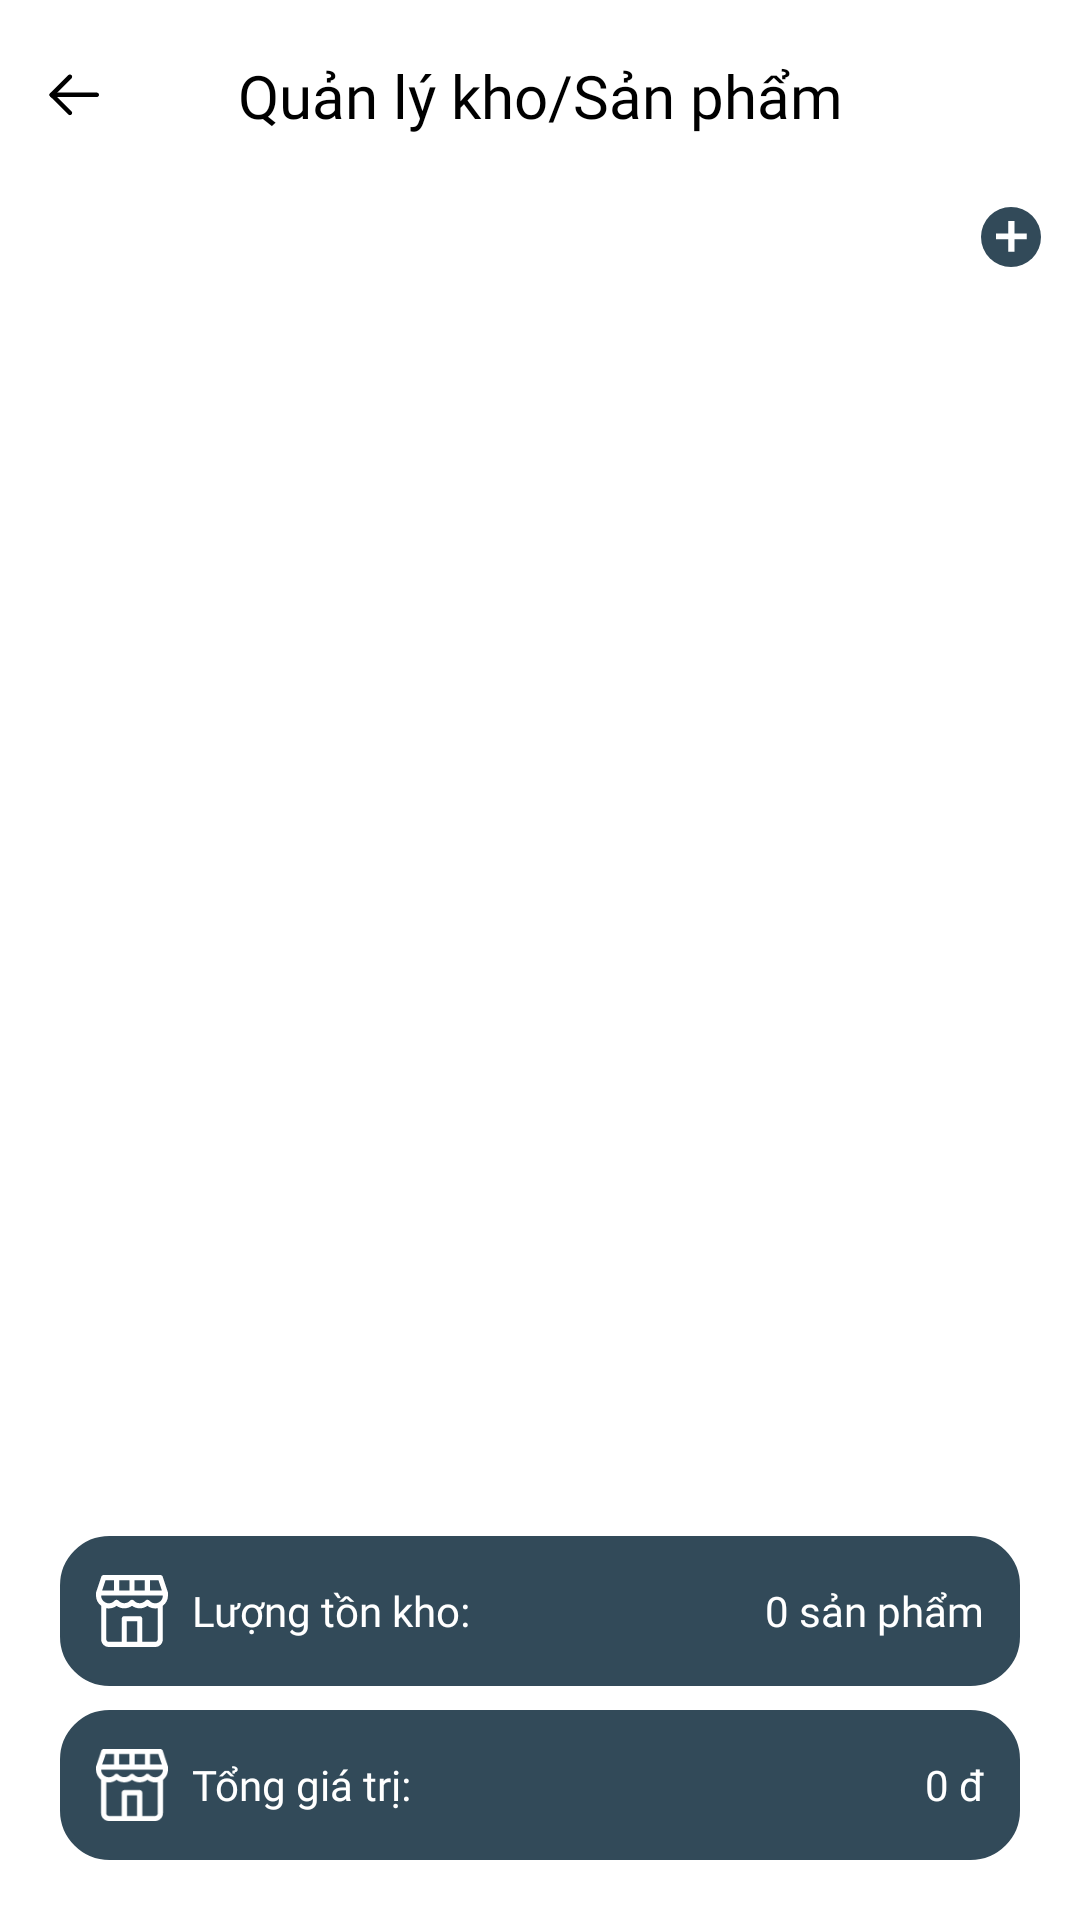

Where to tap for icons on this 1080×1920 app screen, as (x,y):
Add Product: (1011,237)
arrow left: (74,94)
Store Icon: (132,1611), (132,1785)
